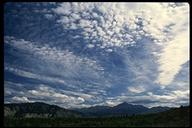cloud: (6, 3, 184, 98)
mountain: (4, 94, 190, 126)
sky: (5, 2, 189, 101)
